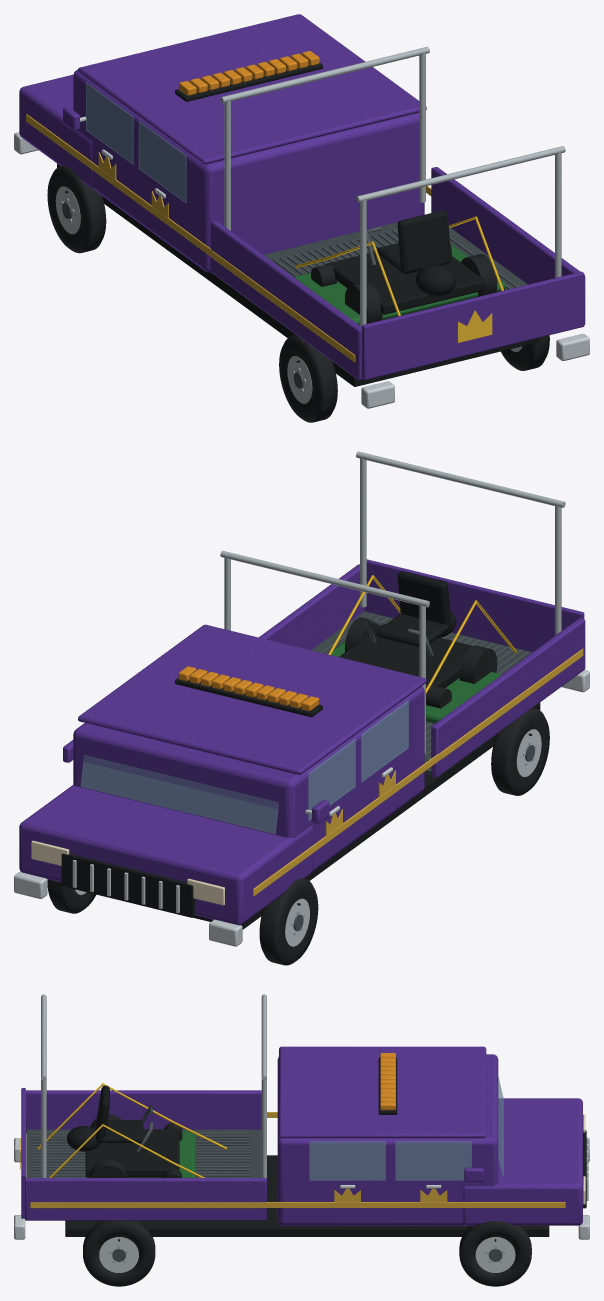
Rendered from TurfKingTruck.gltf.
The picture shows the model from 3 angles, top to bottom: view 1: azimuth 30°, elevation 25°; view 2: azimuth 150°, elevation 25°; view 3: azimuth 270°, elevation 25°; orthographic projection. The views are drawn at different scales.
Parts seen in each view (by area): view 1: TurfKingTruck__Body, TurfKingTruck__Glass, TurfKingTruck__WheelRL, TurfKingTruck__WheelFL, TurfKingTruck__LightBar, TurfKingTruck__WheelRR; view 2: TurfKingTruck__Body, TurfKingTruck__Glass, TurfKingTruck__WheelRL, TurfKingTruck__WheelFL, TurfKingTruck__LightBar, TurfKingTruck__WheelFR; view 3: TurfKingTruck__Body, TurfKingTruck__Glass, TurfKingTruck__WheelRR, TurfKingTruck__WheelFR, TurfKingTruck__LightBar.
Part boxes in pixels (left/top/right/bottom): TurfKingTruck__Body: left=14, top=14, right=589, bottom=408; TurfKingTruck__Glass: left=86, top=82, right=186, bottom=202; TurfKingTruck__WheelRL: left=279, top=335, right=337, bottom=422; TurfKingTruck__WheelFL: left=47, top=166, right=106, bottom=253; TurfKingTruck__LightBar: left=175, top=51, right=322, bottom=101; TurfKingTruck__WheelRR: left=500, top=335, right=549, bottom=370; TurfKingTruck__Body: left=14, top=451, right=589, bottom=946; TurfKingTruck__Glass: left=80, top=700, right=408, bottom=833; TurfKingTruck__WheelRL: left=491, top=708, right=549, bottom=795; TurfKingTruck__WheelFL: left=259, top=878, right=318, bottom=965; TurfKingTruck__LightBar: left=175, top=666, right=322, bottom=717; TurfKingTruck__WheelFR: left=47, top=879, right=95, bottom=913; TurfKingTruck__Body: left=14, top=994, right=589, bottom=1239; TurfKingTruck__Glass: left=309, top=1077, right=503, bottom=1180; TurfKingTruck__WheelRR: left=83, top=1220, right=155, bottom=1286; TurfKingTruck__WheelFR: left=459, top=1221, right=531, bottom=1286; TurfKingTruck__LightBar: left=378, top=1053, right=397, bottom=1114.
Size of the model in its own units: 2.51 by 2.38 by 6.
2 materials, 1 textured.
